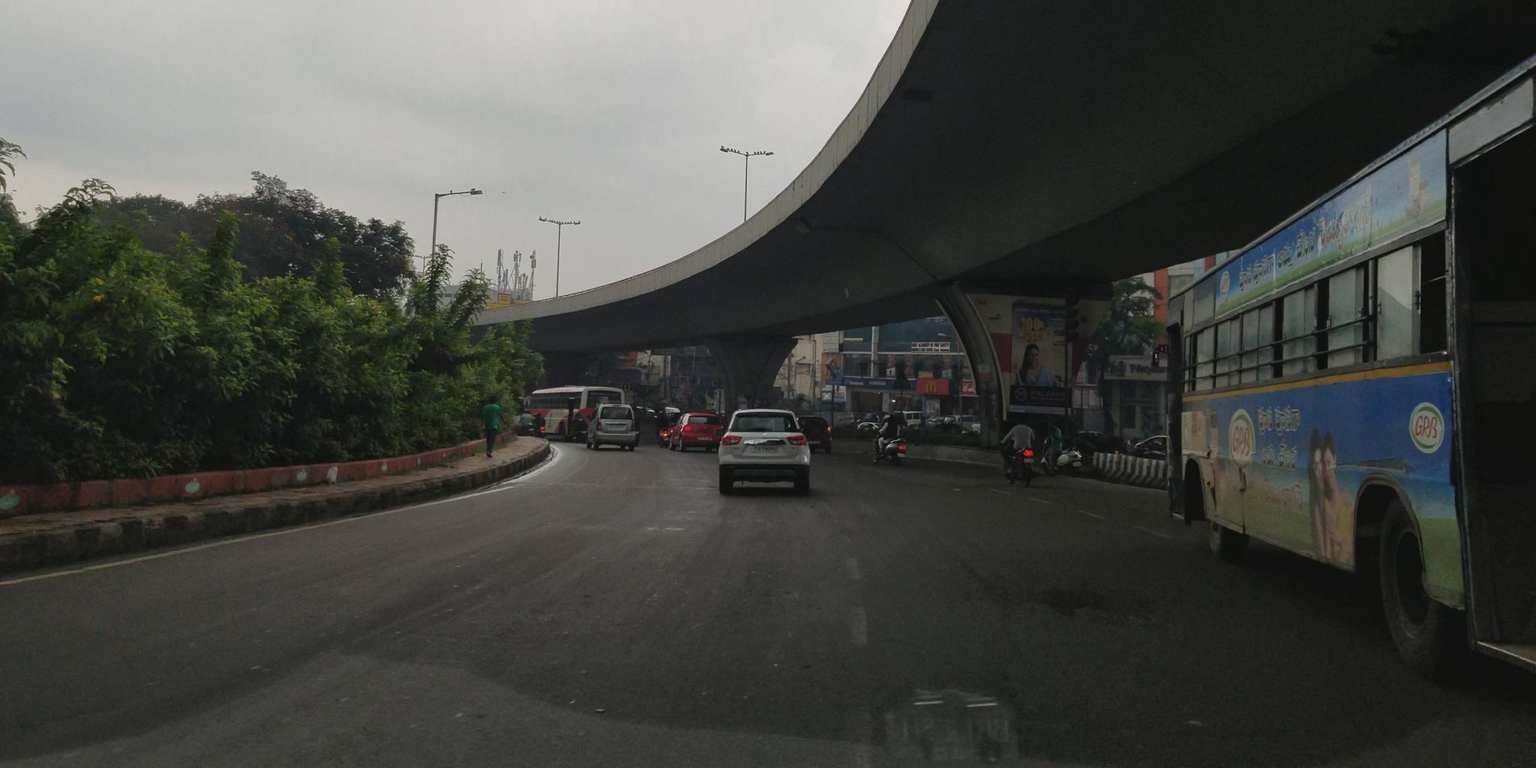streetlight: (430, 170, 486, 216), (710, 134, 755, 164), (745, 141, 790, 170), (556, 209, 586, 230), (529, 208, 559, 229)
